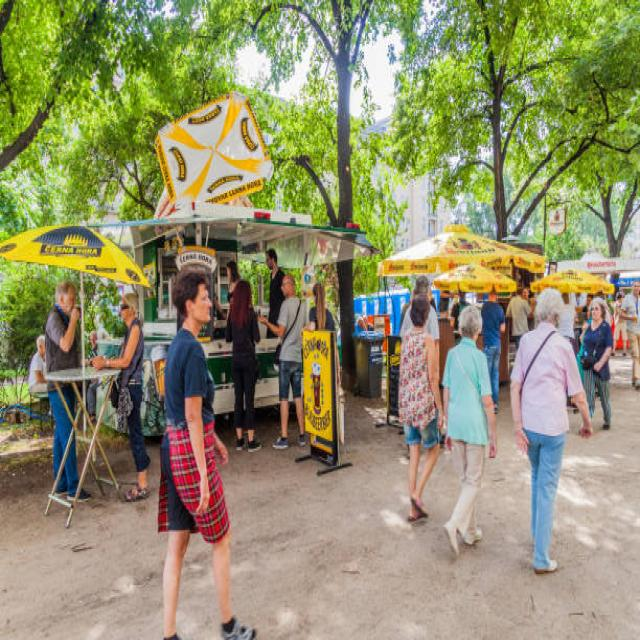Emperan: (49, 79, 399, 472)
